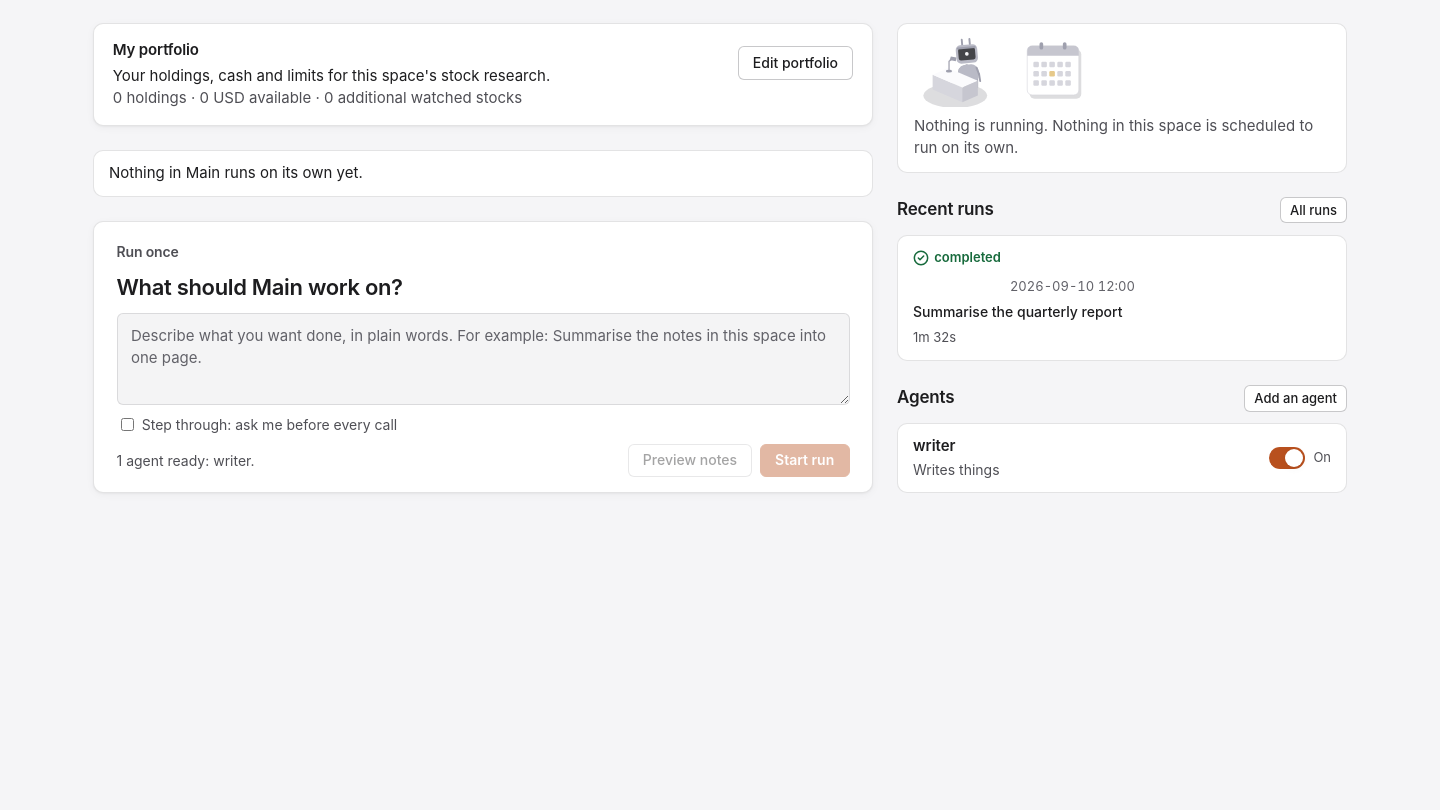
Scenario: starting a run › offers personal-data editing on Home and refreshes related views after saving
Click the button "Edit portfolio": click(795, 63) [738,46,853,80]
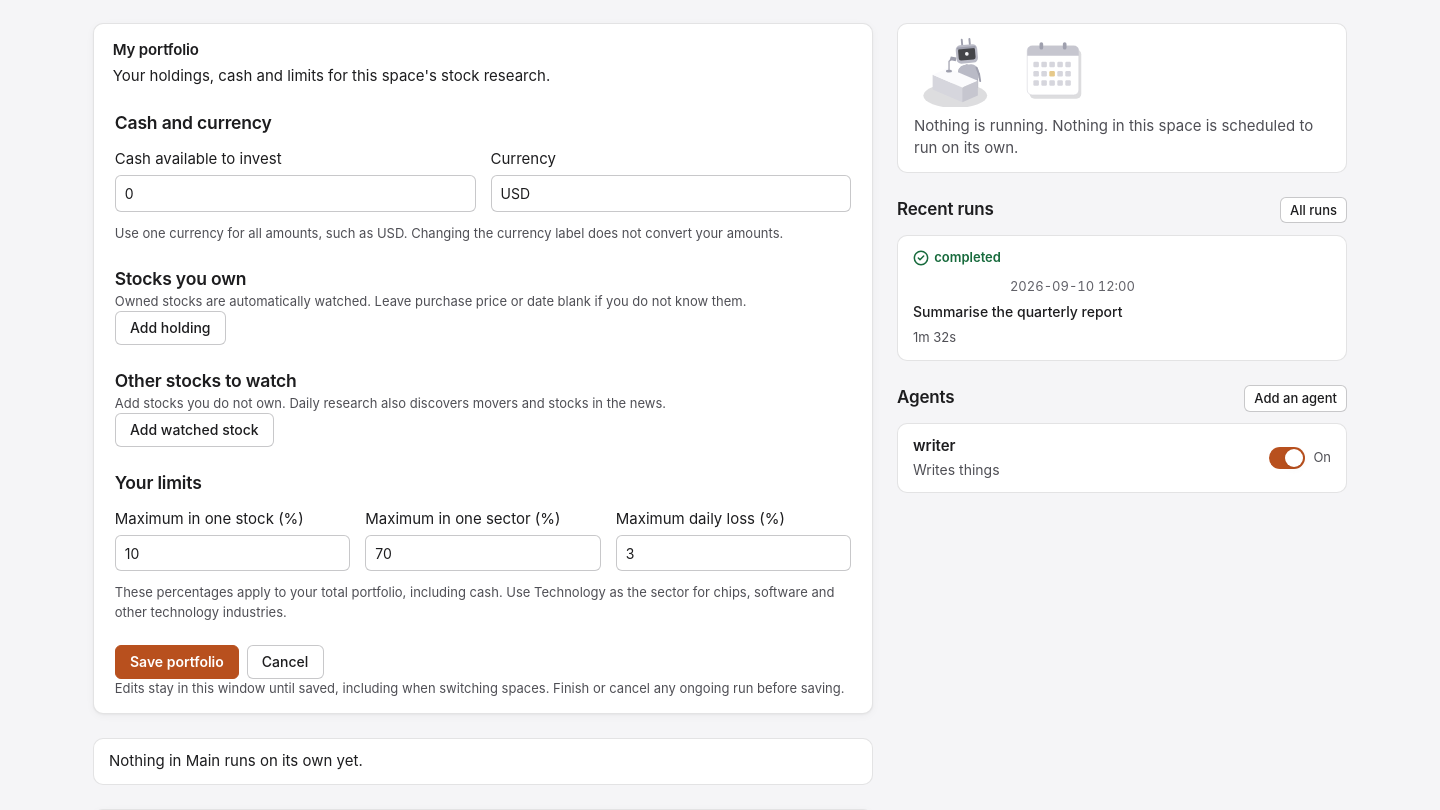
Replace the text in the field labelled "Cash available to invest" with "5000.01": (295, 193) [115,175,476,212]
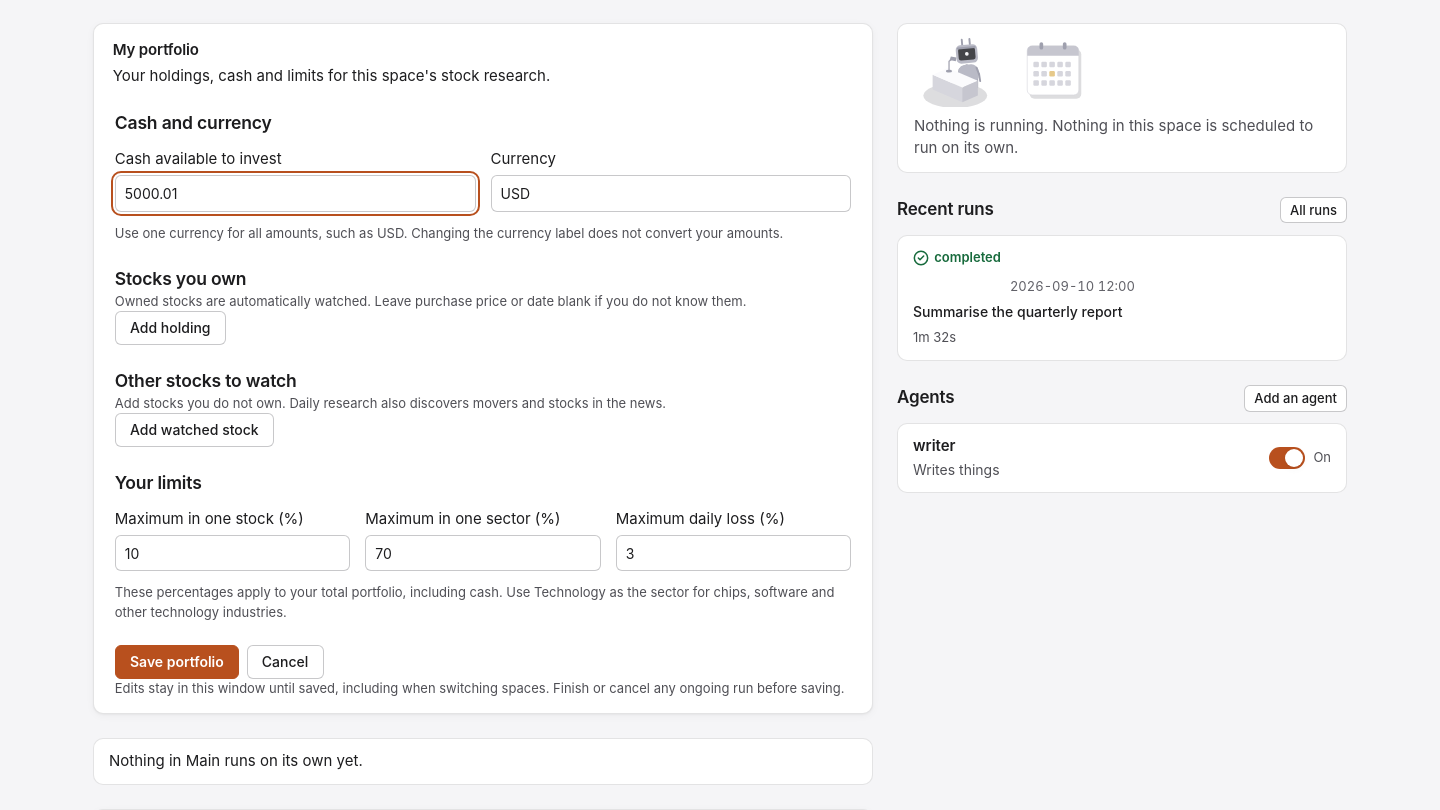
Click the button "Save portfolio": click(177, 662) [115,645,239,679]
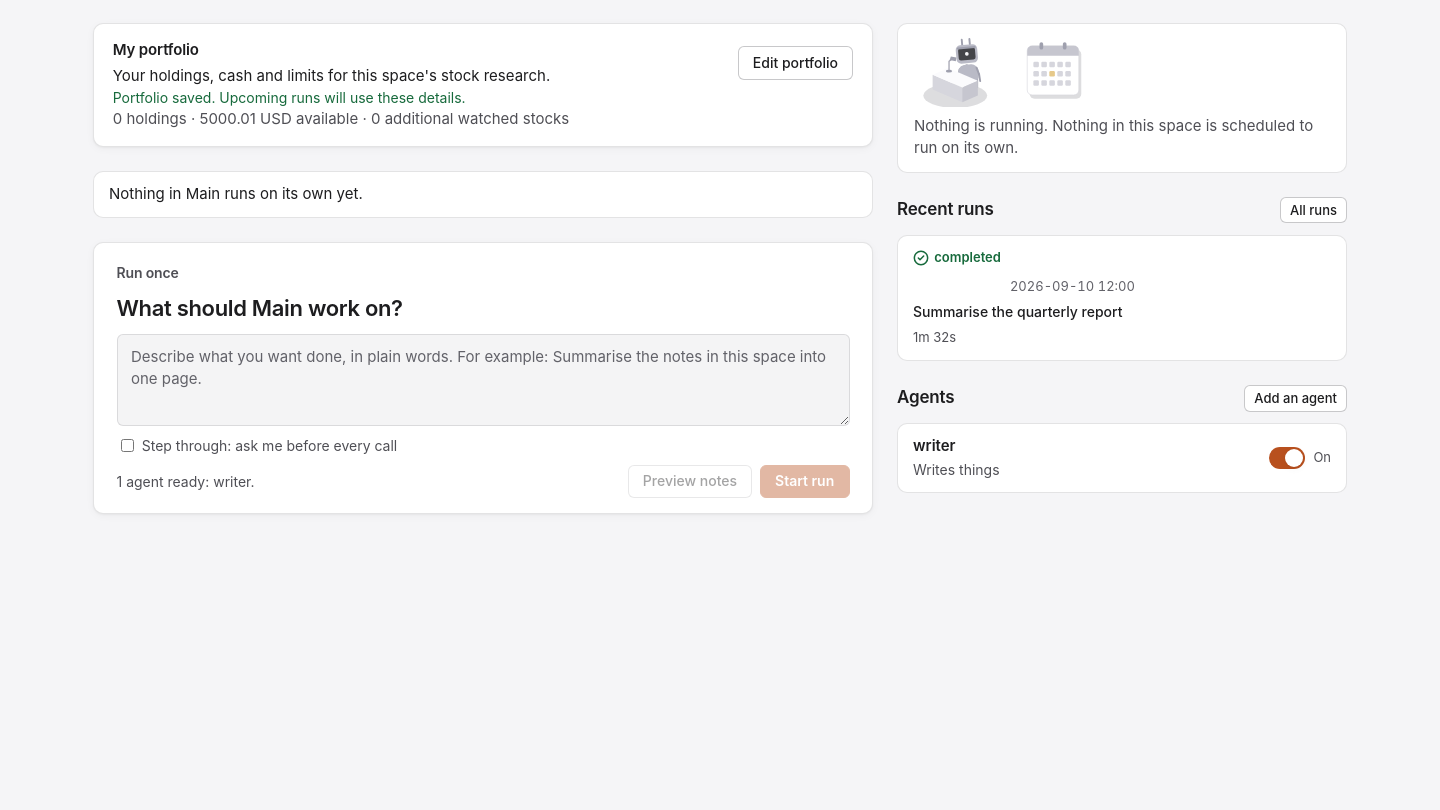
Now the text "Portfolio saved. Upcoming runs will use these details." is shown, box [113,89,466,106]
